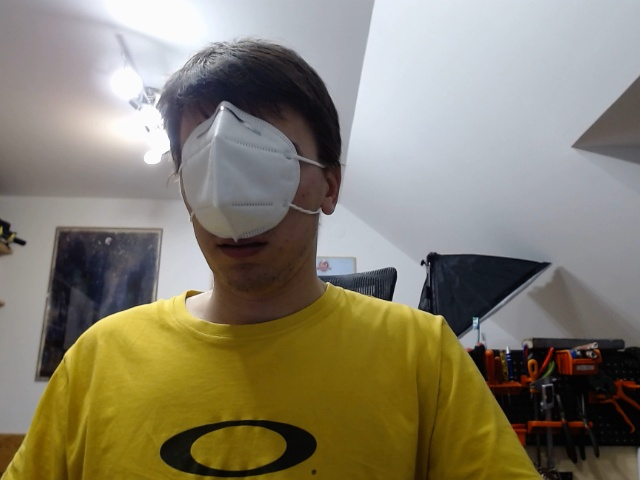WrongMask: (162, 31, 341, 295)
